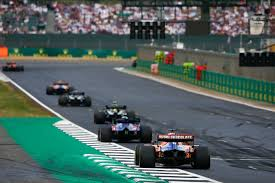FormulaOneCar: (131, 131, 214, 172), (97, 117, 155, 145), (93, 101, 139, 124), (58, 88, 94, 109), (47, 79, 75, 94), (2, 60, 27, 74)
